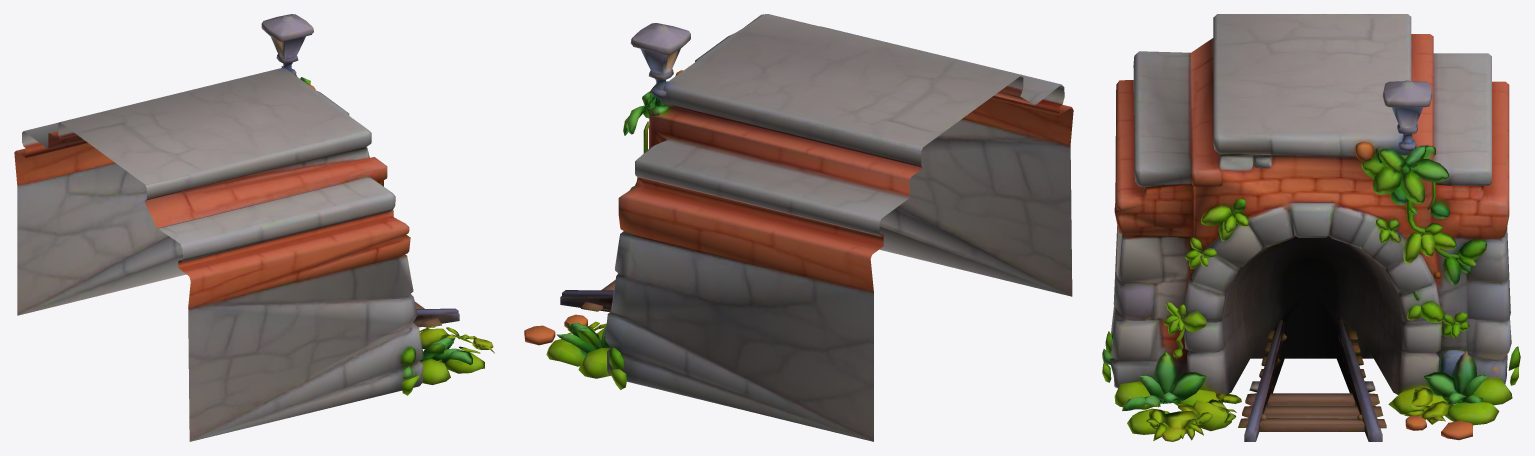
Rendered from tunnel.glb.
3 views of the same model, side by side, from view 1: azimuth 30°, elevation 25°; view 2: azimuth 150°, elevation 25°; view 3: azimuth 270°, elevation 25° (orthographic). The views are drawn at different scales.
Visible parts, largest first — view 1: tripo_node_52f08d27-b3de-4227-bd78-a275fa248105; view 2: tripo_node_52f08d27-b3de-4227-bd78-a275fa248105; view 3: tripo_node_52f08d27-b3de-4227-bd78-a275fa248105.
Boxes of the visible parts, <box> form: tripo_node_52f08d27-b3de-4227-bd78-a275fa248105: <box>14,14,494,441</box>; tripo_node_52f08d27-b3de-4227-bd78-a275fa248105: <box>524,14,1073,441</box>; tripo_node_52f08d27-b3de-4227-bd78-a275fa248105: <box>1102,14,1520,441</box>.
Size of the model in its own units: 0.998 by 0.8144 by 0.9941.
Materials: 1 (1 with a texture image).
